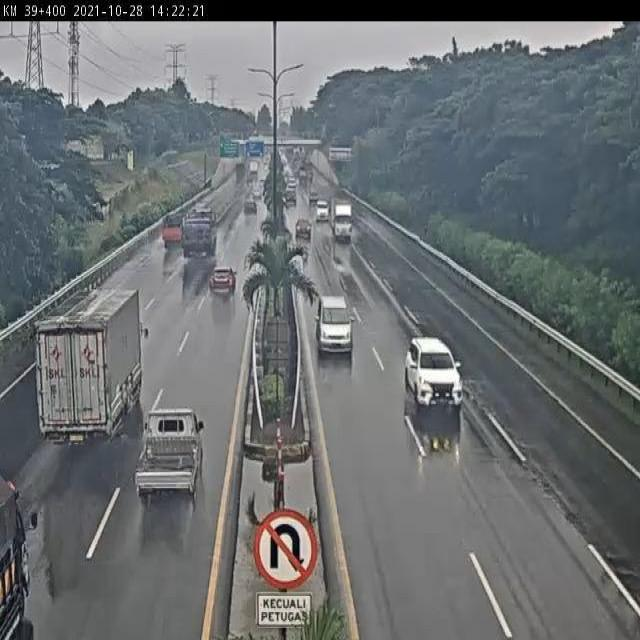car: (135, 408, 206, 503), (406, 337, 464, 408), (316, 296, 353, 356), (208, 264, 239, 300)
truck-l-: (36, 283, 144, 441), (182, 207, 220, 256)
truck-m-: (329, 196, 354, 244)
truck-s-: (161, 213, 187, 247)
